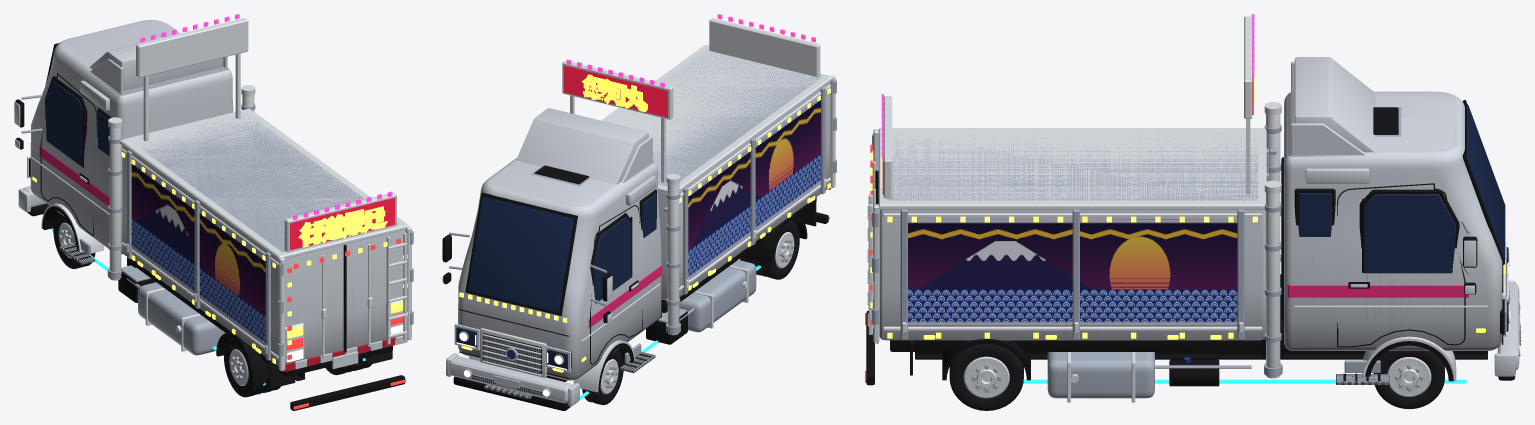
Rendered from dekotora_truck_leve_alta.glb.
3 views of the same model, side by side, from view 1: azimuth 30°, elevation 25°; view 2: azimuth 150°, elevation 25°; view 3: azimuth 270°, elevation 25° (orthographic). The views are drawn at different scales.
Visible parts, largest first — view 1: truck_paint_white_panel, truck_chrome, truck_steel, truck_mural, truck_plastic_black, truck_paint_white, truck_lamp_amber, truck_glass, wheel_r_L_1.5_1.06, truck_andon_panel, wheel_f_L, truck_paint_pink (+4 smaller); view 2: truck_chrome, truck_paint_white_panel, truck_steel, truck_glass, truck_mural, truck_paint_white, truck_plastic_black, truck_lamp_amber, truck_andon_panel, wheel_r_L_1.5_1.06, truck_mesh_perf, wheel_f_L (+3 smaller); view 3: truck_chrome, truck_paint_white_panel, truck_mural, truck_steel, truck_plastic_black, truck_glass, truck_paint_white, wheel_r_R_1.5_1.06, wheel_f_R, truck_paint_pink, truck_lamp_amber, truck_lamp_cyan.
Boxes of the visible parts, left/top/right/bottom form: truck_paint_white_panel: left=30, top=20, right=405, bottom=365; truck_chrome: left=14, top=18, right=411, bottom=371; truck_steel: left=21, top=52, right=413, bottom=360; truck_mural: left=131, top=163, right=265, bottom=345; truck_plastic_black: left=15, top=43, right=405, bottom=410; truck_paint_white: left=18, top=44, right=407, bottom=369; truck_lamp_amber: left=32, top=159, right=407, bottom=363; truck_glass: left=45, top=80, right=109, bottom=166; wheel_r_L_1.5_1.06: left=224, top=337, right=267, bottom=397; truck_andon_panel: left=290, top=197, right=395, bottom=250; wheel_f_L: left=53, top=213, right=95, bottom=268; truck_paint_pink: left=39, top=146, right=109, bottom=205; truck_chrome: left=442, top=18, right=835, bottom=397; truck_paint_white_panel: left=458, top=82, right=830, bottom=380; truck_steel: left=449, top=49, right=836, bottom=363; truck_glass: left=456, top=193, right=656, bottom=369; truck_mural: left=688, top=99, right=820, bottom=279; truck_paint_white: left=446, top=108, right=660, bottom=406; truck_plastic_black: left=443, top=165, right=828, bottom=410; truck_lamp_amber: left=459, top=74, right=830, bottom=372; truck_andon_panel: left=564, top=65, right=667, bottom=117; wheel_r_L_1.5_1.06: left=756, top=220, right=799, bottom=279; truck_mesh_perf: left=483, top=335, right=540, bottom=374; wheel_f_L: left=582, top=349, right=623, bottom=405; truck_chrome: left=867, top=16, right=1520, bottom=402; truck_paint_white_panel: left=879, top=91, right=1502, bottom=350; truck_mural: left=908, top=219, right=1237, bottom=324; truck_steel: left=872, top=107, right=1469, bottom=398; truck_plastic_black: left=866, top=100, right=1515, bottom=386; truck_glass: left=1298, top=104, right=1508, bottom=331; truck_paint_white: left=876, top=57, right=1520, bottom=376; wheel_r_R_1.5_1.06: left=949, top=344, right=1023, bottom=410; wheel_f_R: left=1373, top=350, right=1444, bottom=409; truck_paint_pink: left=1287, top=284, right=1468, bottom=297; truck_lamp_amber: left=870, top=42, right=1507, bottom=339; truck_lamp_cyan: left=1023, top=379, right=1466, bottom=383.
Bounding box in the file's own units: 3.28 × 5.12 × 9.16.
21 materials, 5 textured.
